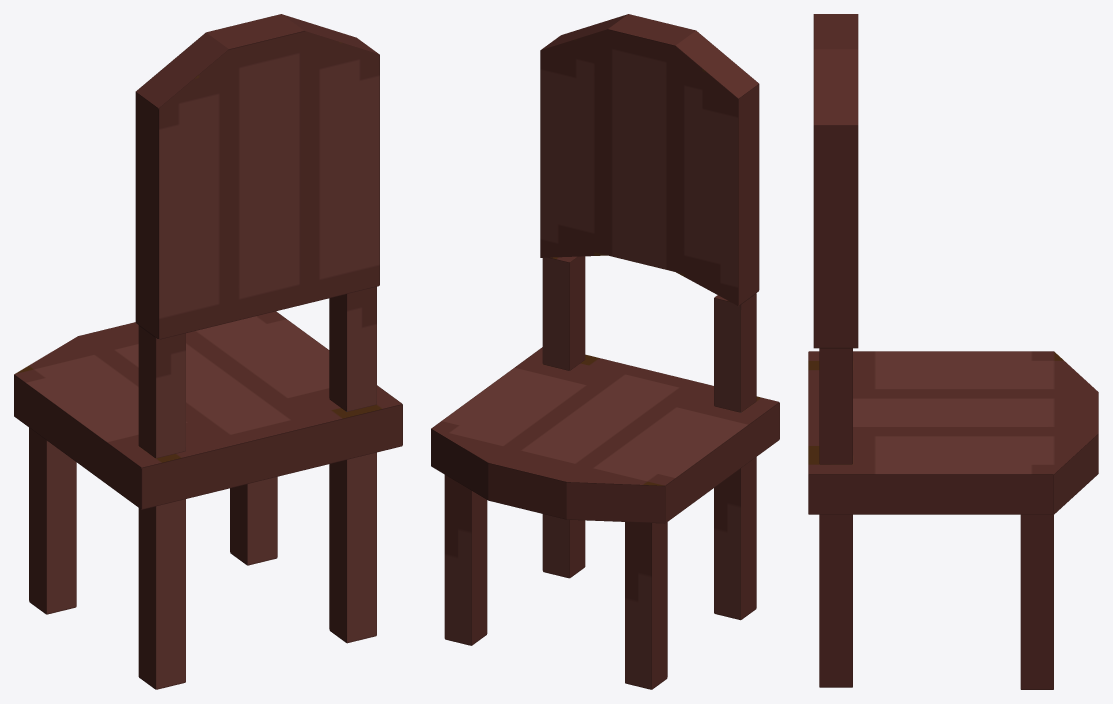
File: diningchair.fbx
The picture shows the model from 3 angles, left to right: view 1: azimuth 30°, elevation 25°; view 2: azimuth 150°, elevation 25°; view 3: azimuth 270°, elevation 25°; orthographic projection. The views are drawn at different scales.
Parts seen in each view (by area): view 1: cuboid.002; view 2: cuboid.002; view 3: cuboid.002.
Part boxes in pixels (x1,y1,x2,y2): cuboid.002: (14, 14, 402, 689); cuboid.002: (431, 14, 779, 689); cuboid.002: (808, 14, 1098, 689).
Size of the model in its own units: 70.64 by 162 by 70.64.
